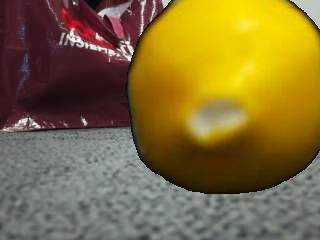lemon: (131, 1, 318, 202)
